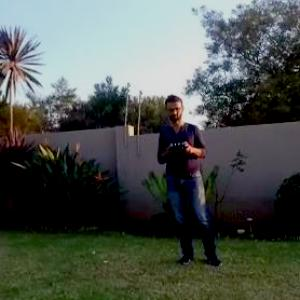follow: (156, 90, 231, 270)
